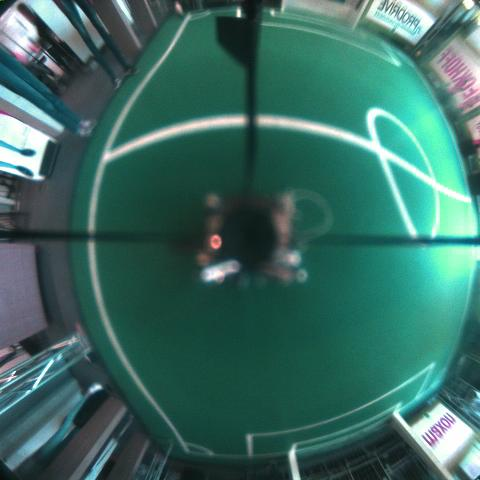ball: (175, 4, 183, 18), (415, 52, 420, 57)
goal: (393, 412, 455, 479), (351, 0, 370, 31), (288, 453, 301, 479), (280, 0, 286, 14)
person: (0, 44, 97, 137), (52, 0, 141, 90)
robot: (443, 94, 479, 122), (436, 80, 465, 105), (459, 138, 479, 157), (467, 173, 479, 196)
